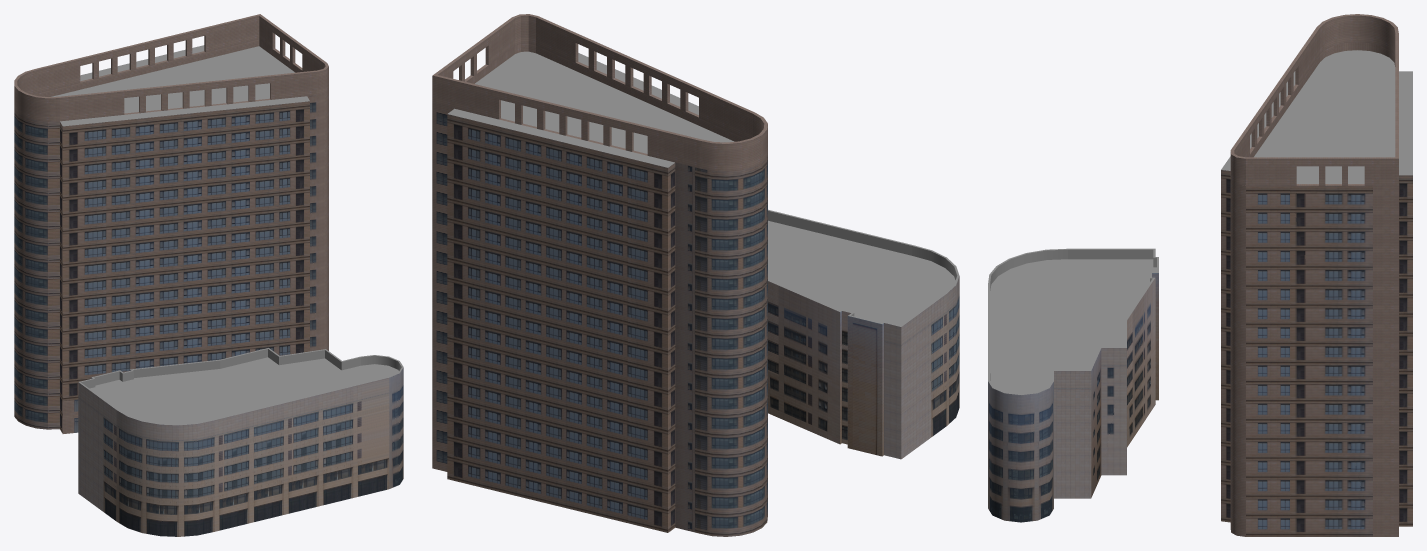
File: side building17.FBX
3 renders of one model, left to right at view 1: azimuth 30°, elevation 25°; view 2: azimuth 150°, elevation 25°; view 3: azimuth 270°, elevation 25°, orthographic. The views are drawn at different scales.
Visible parts, largest first — view 1: class2; view 2: class2; view 3: class2.
Boxes of the visible parts, x1=… form: class2: x1=14, y1=14, x2=403, y2=536; class2: x1=432, y1=14, x2=959, y2=536; class2: x1=988, y1=14, x2=1412, y2=536.
Size of the model in its own units: 54.16 by 60.46 by 59.38.
